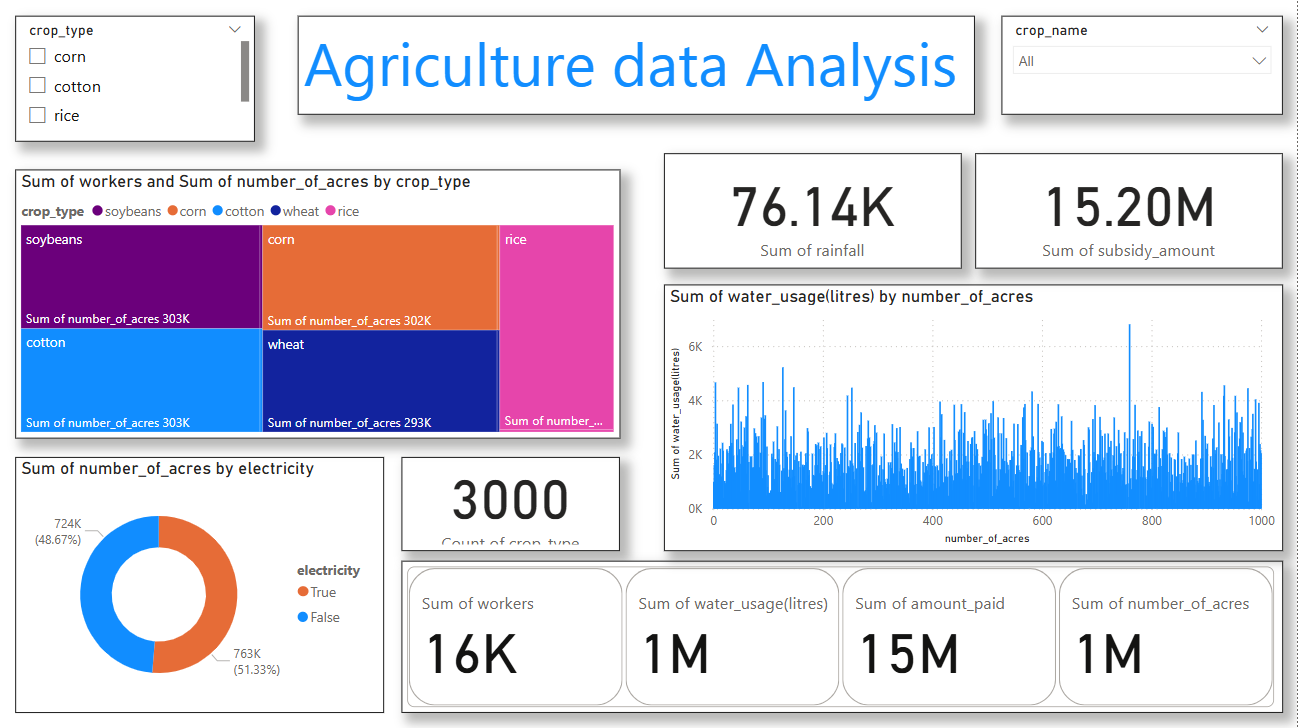

This screenshot's page, from the dashboard's own definition file:
{"tool":"powerbi","page":{"name":"A2","canvas":[1280,720],"ordinal":2},"visuals":[{"type":"card","fields":{"Values":["CountNonNull(Agriculture.crop_type)"]},"box":[403.5,436.6,214,110.1],"z":0},{"type":"slicer","fields":{"Values":["Agriculture.crop_name"]},"box":[1027.2,23.2,238.5,96.6],"z":1000},{"type":"slicer","fields":{"Values":["Agriculture.crop_type"]},"box":[25.7,23.2,234.8,123.5],"z":2000},{"type":"textbox","box":[302,23.2,715.4,96.6],"z":3000},{"type":"cardVisual","fields":{"Data":["Sum(Agriculture.workers)","Sum(Agriculture.water_usage(litres))","Sum(Agriculture.amount_paid)","Sum(Agriculture.number_of_acres)"]},"box":[403.5,556.4,862.1,149.2],"z":4000},{"type":"donutChart","fields":{"Category":["Agriculture.electricity"],"Y":["Sum(Agriculture.number_of_acres)"]},"box":[25.7,436.6,360.7,269],"z":5000},{"type":"clusteredColumnChart","fields":{"Y":["Sum(Agriculture.water_usage(litres))"],"Category":["Agriculture.number_of_acres"]},"box":[660.3,286.1,605.3,260.5],"z":6000},{"type":"treemap","fields":{"Group":["Agriculture.crop_type"],"Values":["Sum(Agriculture.workers)","Sum(Agriculture.number_of_acres)"]},"box":[25.7,173.6,591.9,243.3],"z":7000},{"type":"card","fields":{"Values":["Sum(Agriculture.rainfall)"]},"box":[660.3,157.7,291,112.5],"z":8000},{"type":"card","fields":{"Values":["Sum(Agriculture.subsidy_amount)"]},"box":[964.8,157.7,300.8,112.5],"z":9000}]}

Visuals, with their boxes in screenshot pixels (x1, y1, x2, y2), scaled from the page's 1280x720 canvas onto the 1298x728 screenshot:
card - CountNonNull(Agriculture.crop_type): (409, 441, 626, 553)
slicer - Agriculture.crop_name: (1042, 23, 1283, 121)
slicer - Agriculture.crop_type: (26, 23, 264, 148)
textbox: (306, 23, 1032, 121)
cardVisual - Sum(Agriculture.workers) x Sum(Agriculture.water_usage(litres)): (409, 563, 1283, 713)
donutChart - Agriculture.electricity x Sum(Agriculture.number_of_acres): (26, 441, 392, 713)
clusteredColumnChart - Sum(Agriculture.water_usage(litres)) x Agriculture.number_of_acres: (670, 289, 1283, 553)
treemap - Agriculture.crop_type x Sum(Agriculture.workers): (26, 176, 626, 422)
card - Sum(Agriculture.rainfall): (670, 159, 965, 273)
card - Sum(Agriculture.subsidy_amount): (978, 159, 1283, 273)
